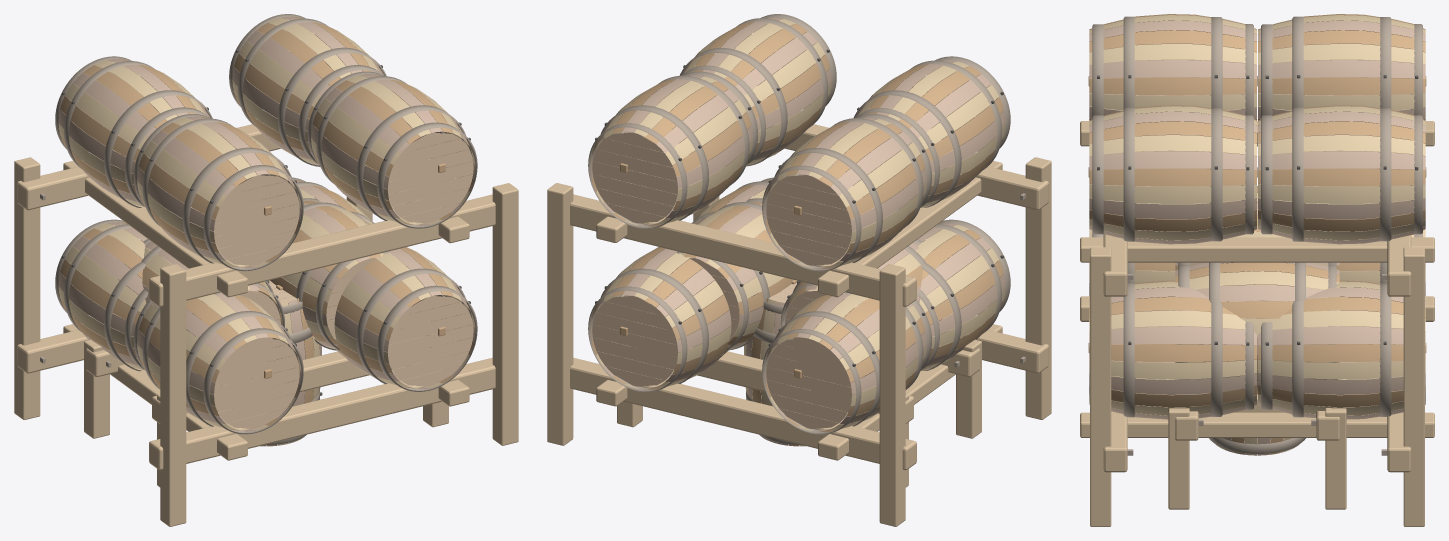
Rendered from frontier-cooperage.glb.
3 renders of one model, left to right at view 1: azimuth 30°, elevation 25°; view 2: azimuth 150°, elevation 25°; view 3: azimuth 270°, elevation 25°, orthographic. The views are drawn at different scales.
Parts seen in each view (by area): view 1: Cooperage scrubbed oak rack.001, Cooperage oak end grain.001, Cooperage oxidized iron.001, Cooperage pale oak.001, Cooperage brown oak.001, Cooperage red oak.001, Cooperage scrubbed oak rack, Cooperage oak end grain, Cooperage pale oak, Cooperage brown oak, Cooperage oxidized iron, Cooperage red oak (+1 smaller); view 2: Cooperage scrubbed oak rack.001, Cooperage oak end grain.001, Cooperage oxidized iron.001, Cooperage brown oak.001, Cooperage pale oak.001, Cooperage red oak.001, Cooperage scrubbed oak rack, Cooperage pale oak, Cooperage brown oak, Cooperage oak end grain, Cooperage red oak, Cooperage oxidized iron (+1 smaller); view 3: Cooperage pale oak.001, Cooperage brown oak.001, Cooperage red oak.001, Cooperage scrubbed oak rack.001, Cooperage oxidized iron.001, Cooperage scrubbed oak rack, Cooperage brown oak, Cooperage pale oak, Cooperage red oak, Cooperage oxidized iron, Cooperage oxidized iron.002.
Part boxes in pixels (<box>): Cooperage scrubbed oak rack.001: <box>14,113,518,526</box>; Cooperage oak end grain.001: <box>62,20,473,428</box>; Cooperage oxidized iron.001: <box>40,14,477,434</box>; Cooperage pale oak.001: <box>58,18,475,430</box>; Cooperage brown oak.001: <box>60,16,473,431</box>; Cooperage red oak.001: <box>58,16,475,431</box>; Cooperage scrubbed oak rack: <box>84,334,448,487</box>; Cooperage oak end grain: <box>123,258,412,373</box>; Cooperage pale oak: <box>124,200,411,382</box>; Cooperage brown oak: <box>120,200,405,381</box>; Cooperage oxidized iron: <box>106,198,414,386</box>; Cooperage red oak: <box>126,203,401,382</box>; Cooperage scrubbed oak rack.001: <box>547,113,1051,526</box>; Cooperage oak end grain.001: <box>592,20,1003,428</box>; Cooperage oxidized iron.001: <box>588,14,1025,434</box>; Cooperage brown oak.001: <box>592,18,1003,432</box>; Cooperage pale oak.001: <box>590,19,1005,430</box>; Cooperage red oak.001: <box>590,17,1005,432</box>; Cooperage scrubbed oak rack: <box>617,333,981,487</box>; Cooperage pale oak: <box>653,202,936,384</box>; Cooperage brown oak: <box>659,202,944,382</box>; Cooperage oak end grain: <box>653,258,906,373</box>; Cooperage red oak: <box>665,204,939,382</box>; Cooperage oxidized iron: <box>651,198,959,386</box>; Cooperage pale oak.001: <box>1089,15,1425,415</box>; Cooperage brown oak.001: <box>1088,14,1426,418</box>; Cooperage red oak.001: <box>1089,15,1425,419</box>; Cooperage scrubbed oak rack.001: <box>1080,121,1434,526</box>; Cooperage oxidized iron.001: <box>1092,16,1422,455</box>; Cooperage scrubbed oak rack: <box>1168,271,1346,509</box>; Cooperage brown oak: <box>1175,187,1339,394</box>; Cooperage pale oak: <box>1175,192,1339,381</box>; Cooperage red oak: <box>1175,186,1339,390</box>; Cooperage oxidized iron: <box>1178,262,1336,425</box>; Cooperage oxidized iron.002: <box>1209,438,1305,453</box>.
Bounding box in the file's own units: 2.5 × 2.3 × 2.
